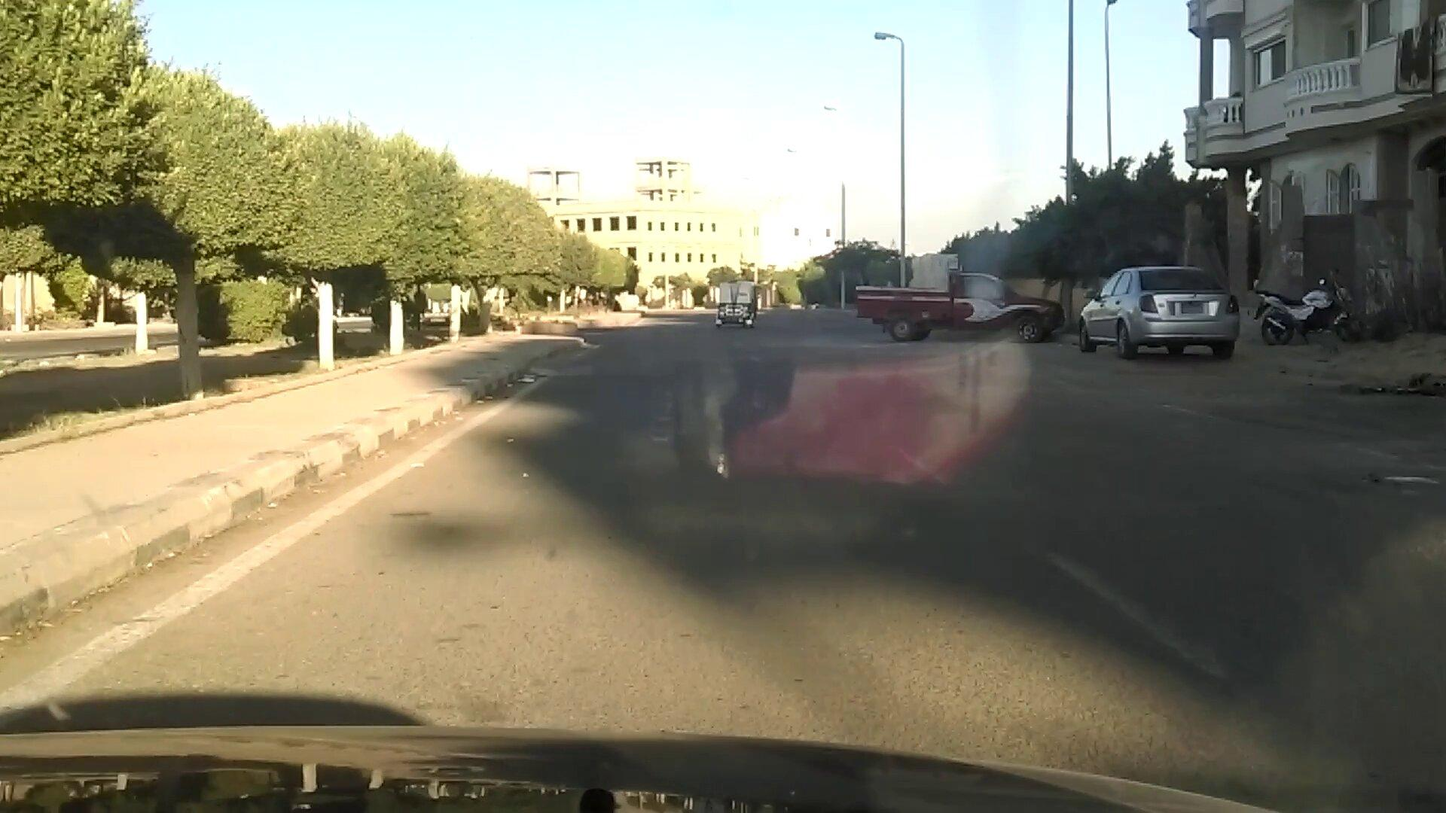Bump: (514, 357, 1328, 388)
